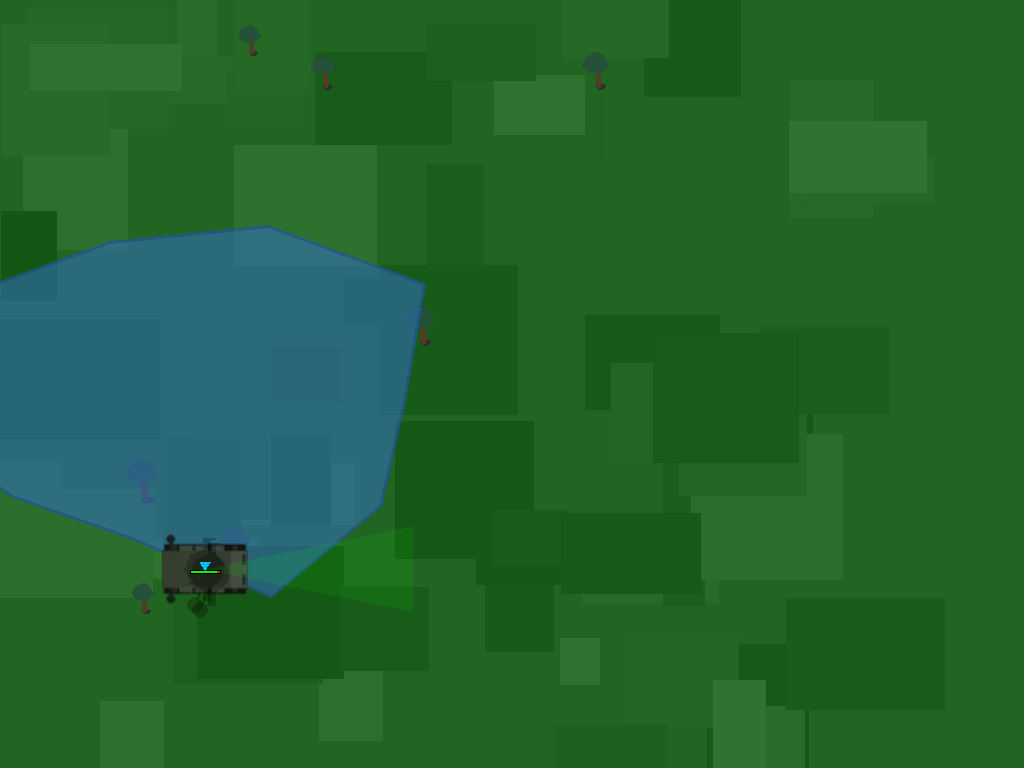Lake: (0, 226, 424, 596)
RadarBuilding: (156, 520, 253, 617)
